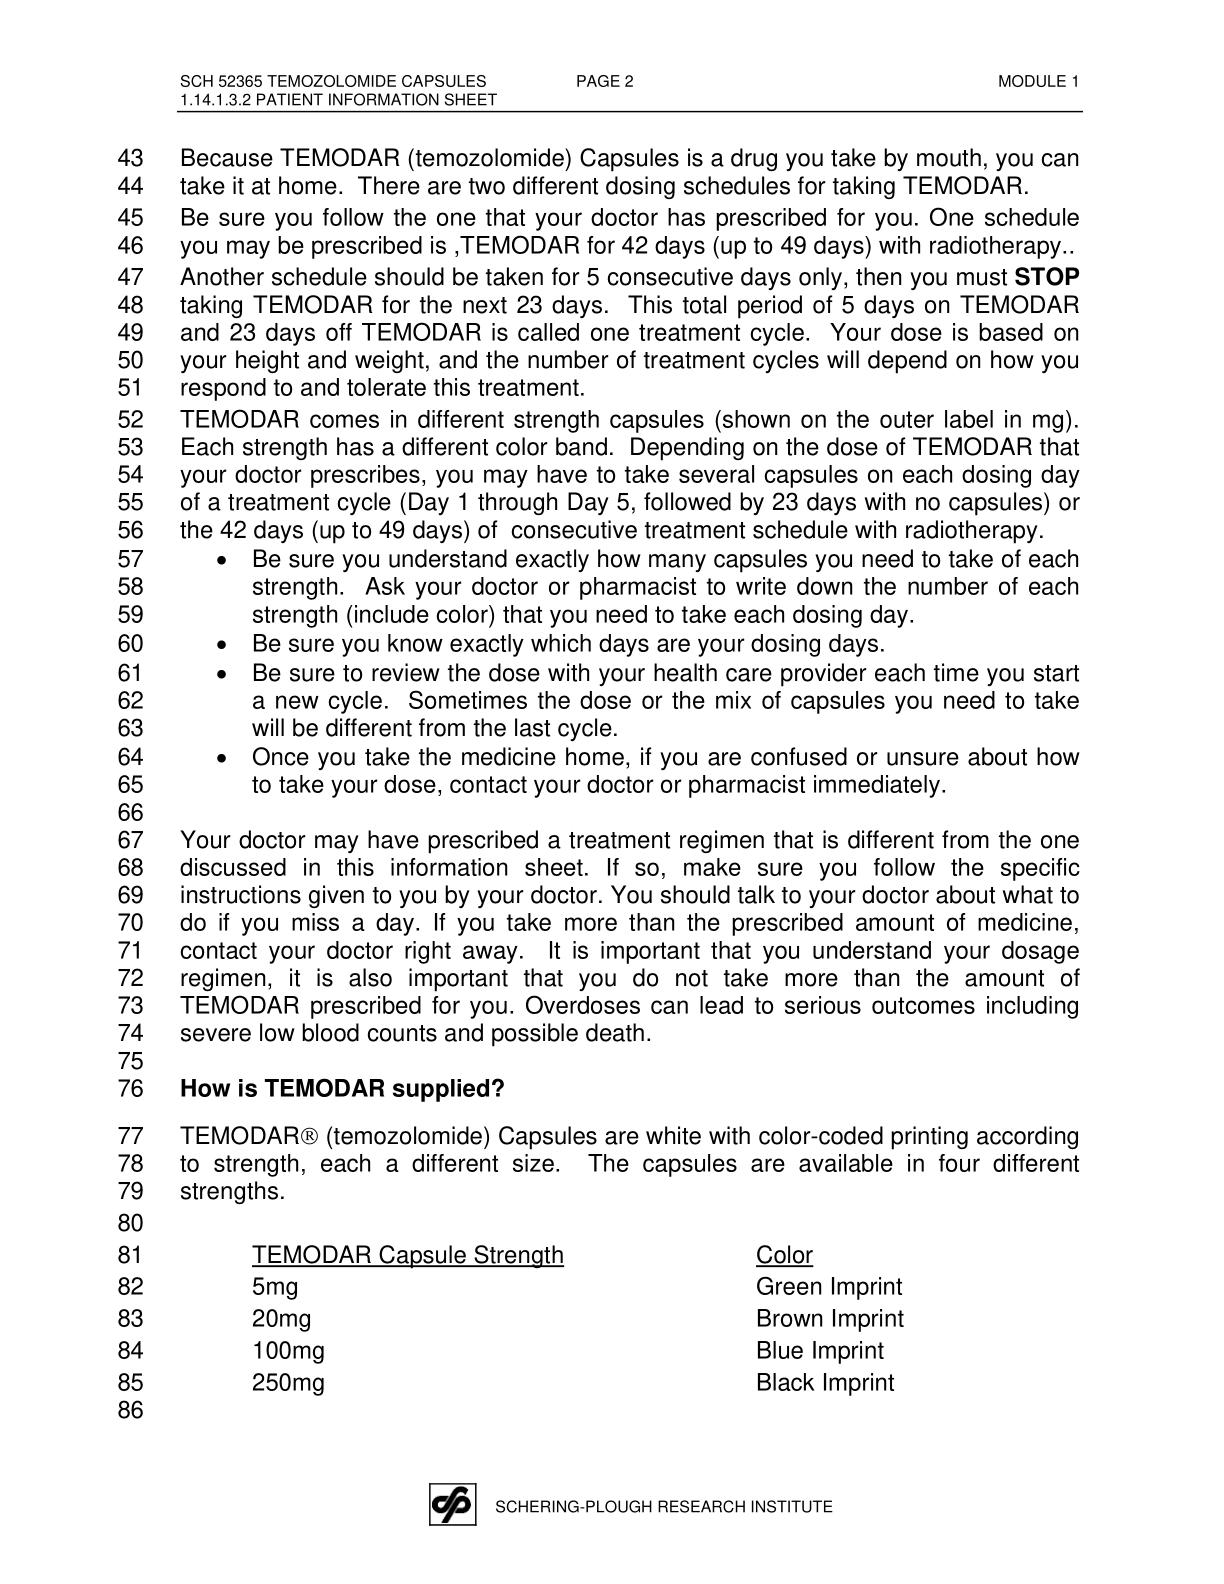nolines: (246, 1236, 910, 1396)
